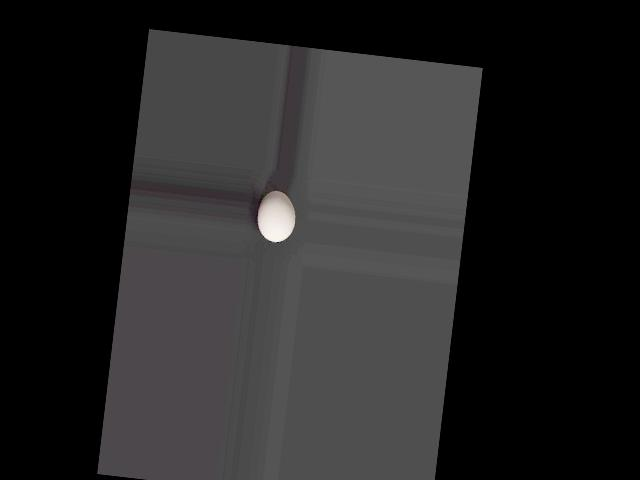egg: (254, 189, 297, 244)
